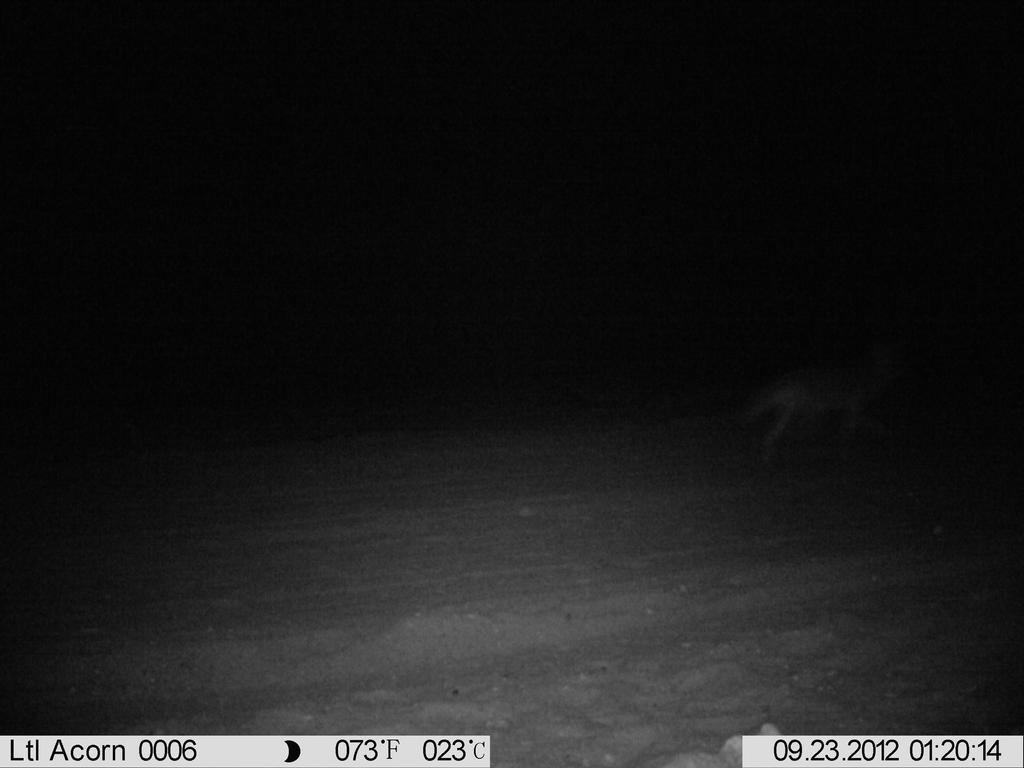coyote: (737, 346, 929, 473)
